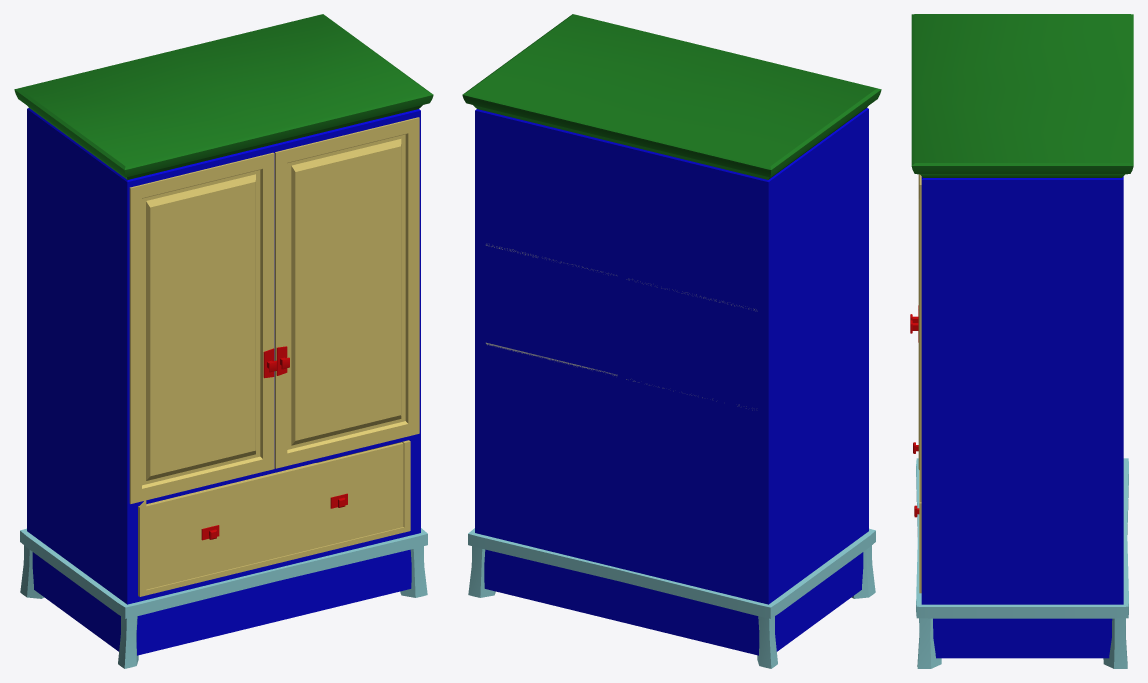
Rendered from armoire.fbx.
The picture shows the model from 3 angles, left to right: view 1: azimuth 30°, elevation 25°; view 2: azimuth 150°, elevation 25°; view 3: azimuth 270°, elevation 25°; orthographic projection.
Parts seen in each view (by area): view 1: Armoire_Basic_SingleObject; view 2: Armoire_Basic_SingleObject; view 3: Armoire_Basic_SingleObject.
Part boxes in pixels (x1=…): Armoire_Basic_SingleObject: x1=14, y1=14, x2=433, y2=668; Armoire_Basic_SingleObject: x1=462, y1=14, x2=881, y2=668; Armoire_Basic_SingleObject: x1=910, y1=14, x2=1133, y2=668.
Bounding box in the file's own units: 1.15 × 1.79 × 0.7158.
